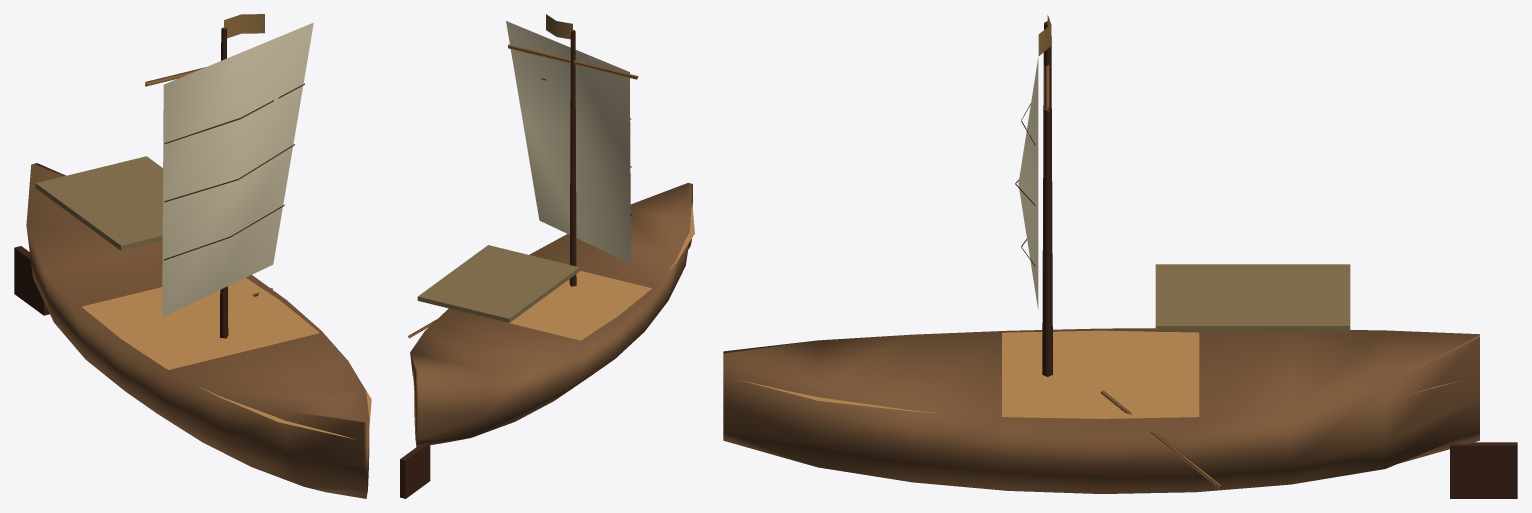
The model's file is fisherman-lod2.glb.
3 views of the same model, side by side, from view 1: azimuth 30°, elevation 25°; view 2: azimuth 150°, elevation 25°; view 3: azimuth 270°, elevation 25° (orthographic). The views are drawn at different scales.
Parts seen in each view (by area): view 1: hull, sail_01, deck, fishing_canopy_body, rudder_pivot, flag_01, mast_timber_01; view 2: hull, sail_01, fishing_canopy_body, deck, mast_timber_01, rudder_pivot, mast_01, flag_01; view 3: hull, deck, fishing_canopy_body, rudder_pivot, mast_timber_01, sail_01.
Part boxes in pixels (x1=…): hull: x1=26, y1=163, x2=369, y2=498; sail_01: x1=162, y1=22, x2=313, y2=316; deck: x1=82, y1=277, x2=371, y2=439; fishing_canopy_body: x1=35, y1=156, x2=162, y2=250; rudder_pivot: x1=14, y1=246, x2=49, y2=315; flag_01: x1=224, y1=14, x2=264, y2=38; mast_timber_01: x1=220, y1=27, x2=228, y2=338; hull: x1=410, y1=183, x2=692, y2=447; sail_01: x1=506, y1=21, x2=631, y2=263; fishing_canopy_body: x1=417, y1=245, x2=579, y2=322; deck: x1=413, y1=203, x2=694, y2=389; mast_timber_01: x1=569, y1=30, x2=576, y2=286; rudder_pivot: x1=400, y1=445, x2=430, y2=498; mast_01: x1=508, y1=44, x2=638, y2=79; flag_01: x1=546, y1=14, x2=572, y2=39; hull: x1=723, y1=328, x2=1479, y2=493; deck: x1=738, y1=330, x2=1458, y2=418; fishing_canopy_body: x1=1155, y1=264, x2=1350, y2=331; rudder_pivot: x1=1450, y1=442, x2=1517, y2=498; mast_timber_01: x1=1042, y1=22, x2=1052, y2=376; sail_01: x1=1015, y1=58, x2=1038, y2=309.
Size of the model in its own units: 5.13 by 9.86 by 14.7.
